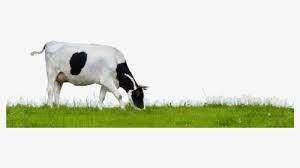cow: (45, 41, 146, 111)
